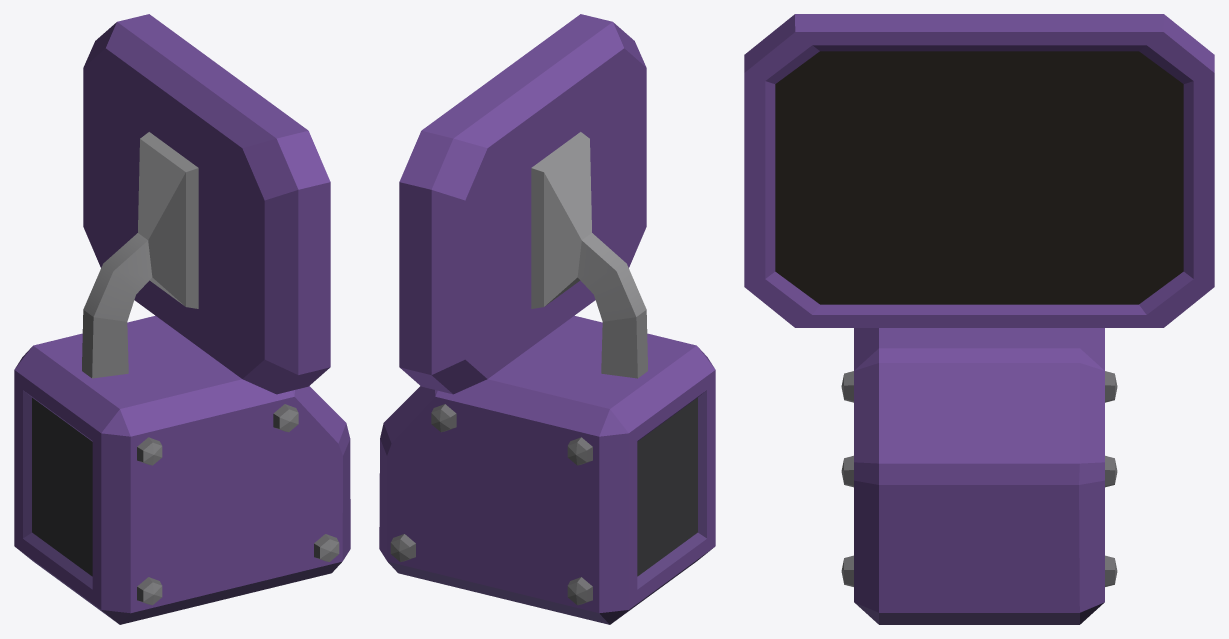
Rendered from crafting_recipe_selector_bigger.glb.
The picture shows the model from 3 angles, left to right: view 1: azimuth 30°, elevation 25°; view 2: azimuth 150°, elevation 25°; view 3: azimuth 270°, elevation 25°; orthographic projection. The views are drawn at different scales.
Visible parts, largest first — view 1: polySurface19; view 2: polySurface19; view 3: polySurface19.
Boxes of the visible parts, x1=… form: polySurface19: x1=14, y1=14, x2=350, y2=624; polySurface19: x1=379, y1=14, x2=715, y2=624; polySurface19: x1=744, y1=14, x2=1214, y2=624.
Size of what is drawn, in the model's own units: 1.35 by 2.5 by 1.91.
1 material, 1 textured.
